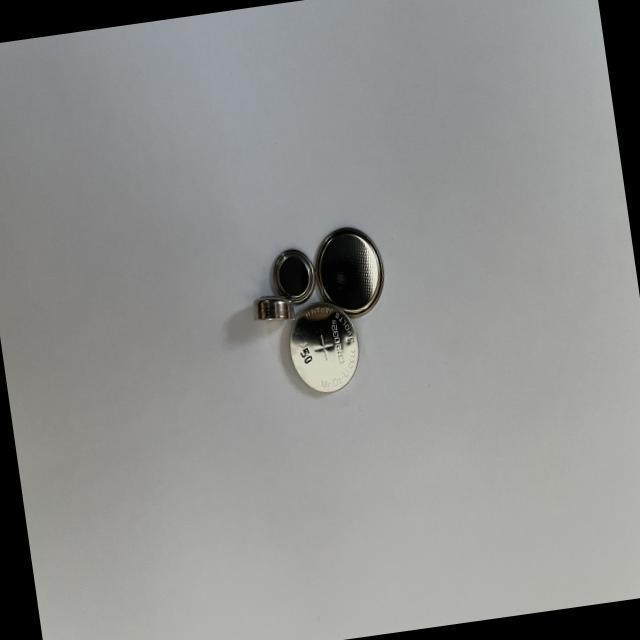COIN: (307, 218, 392, 324), (282, 294, 365, 402), (268, 244, 320, 311), (246, 286, 298, 328)
